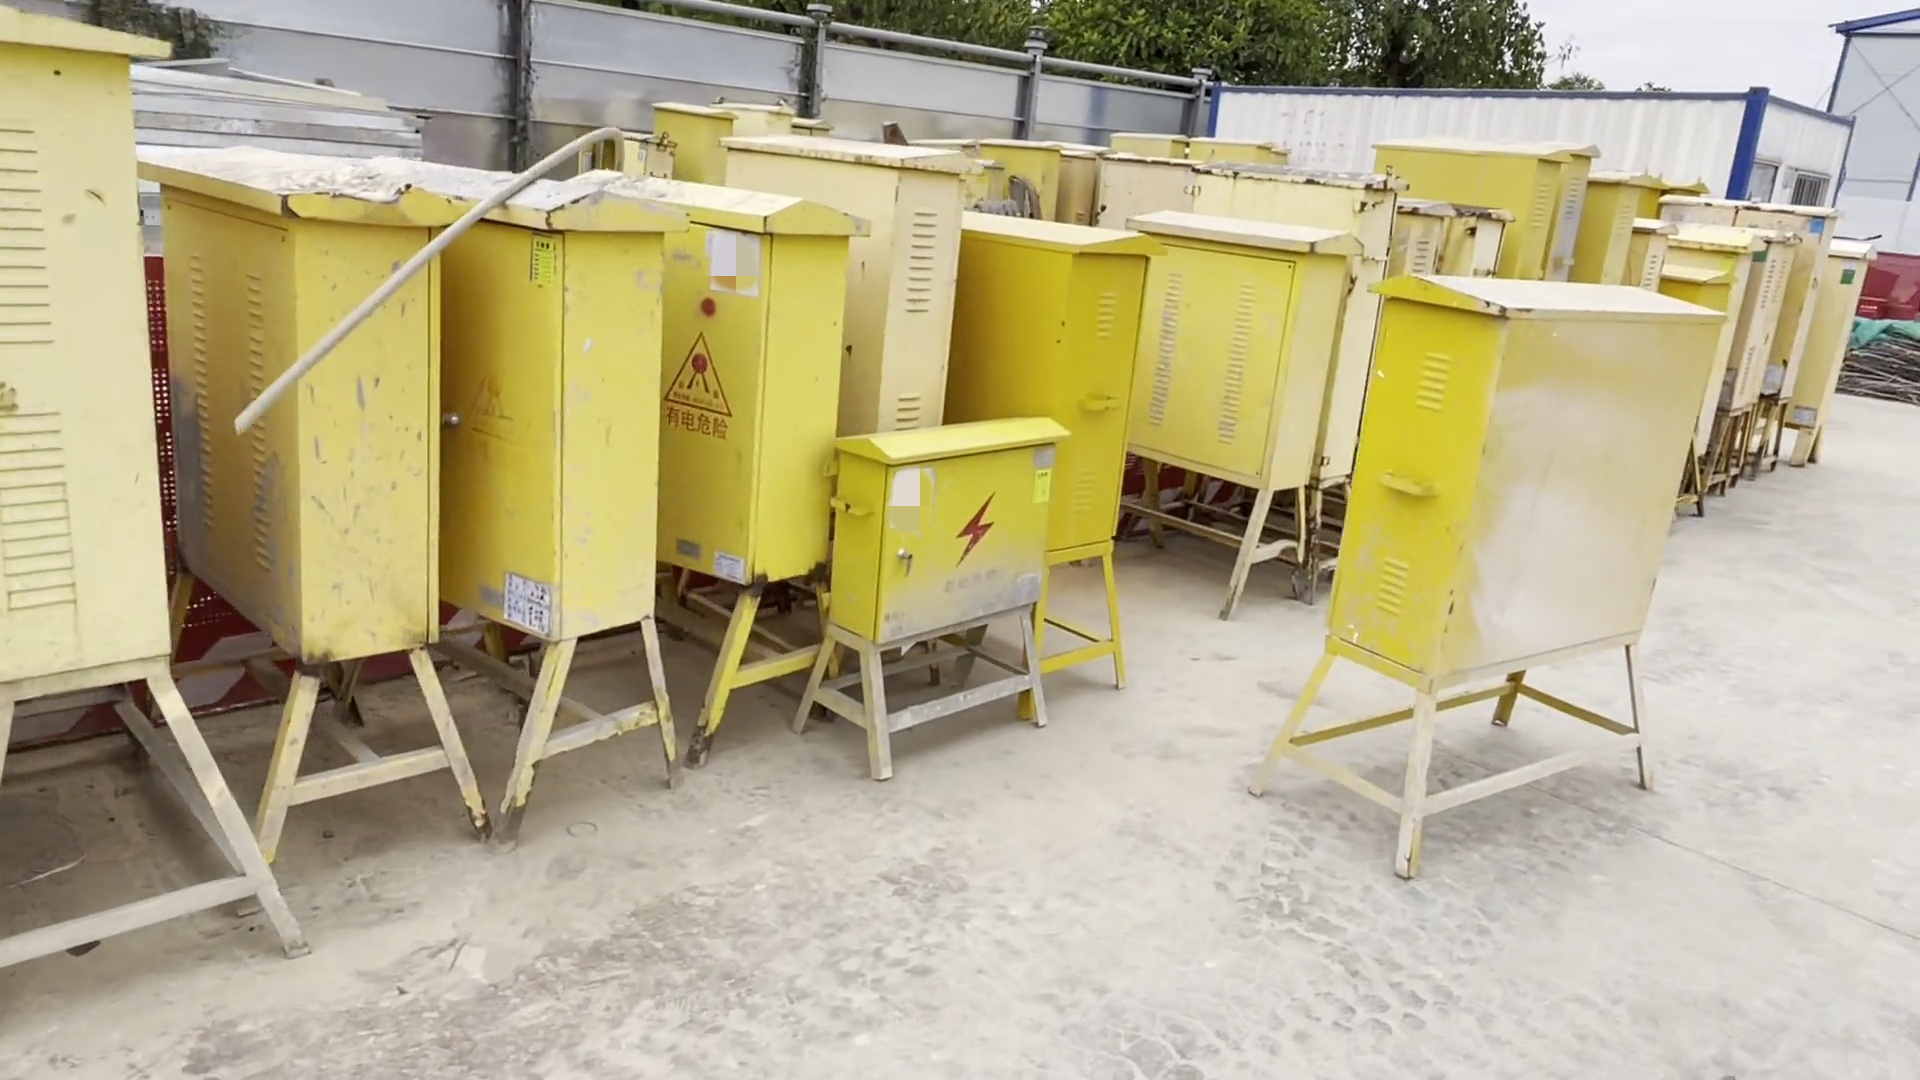ebox: (1, 1, 334, 961), (138, 133, 491, 847), (1298, 265, 1667, 835), (439, 187, 684, 833), (783, 404, 1068, 794), (704, 187, 882, 779), (959, 196, 1135, 698), (1146, 202, 1316, 622), (723, 131, 959, 415), (1385, 145, 1565, 276), (1797, 231, 1879, 464)
